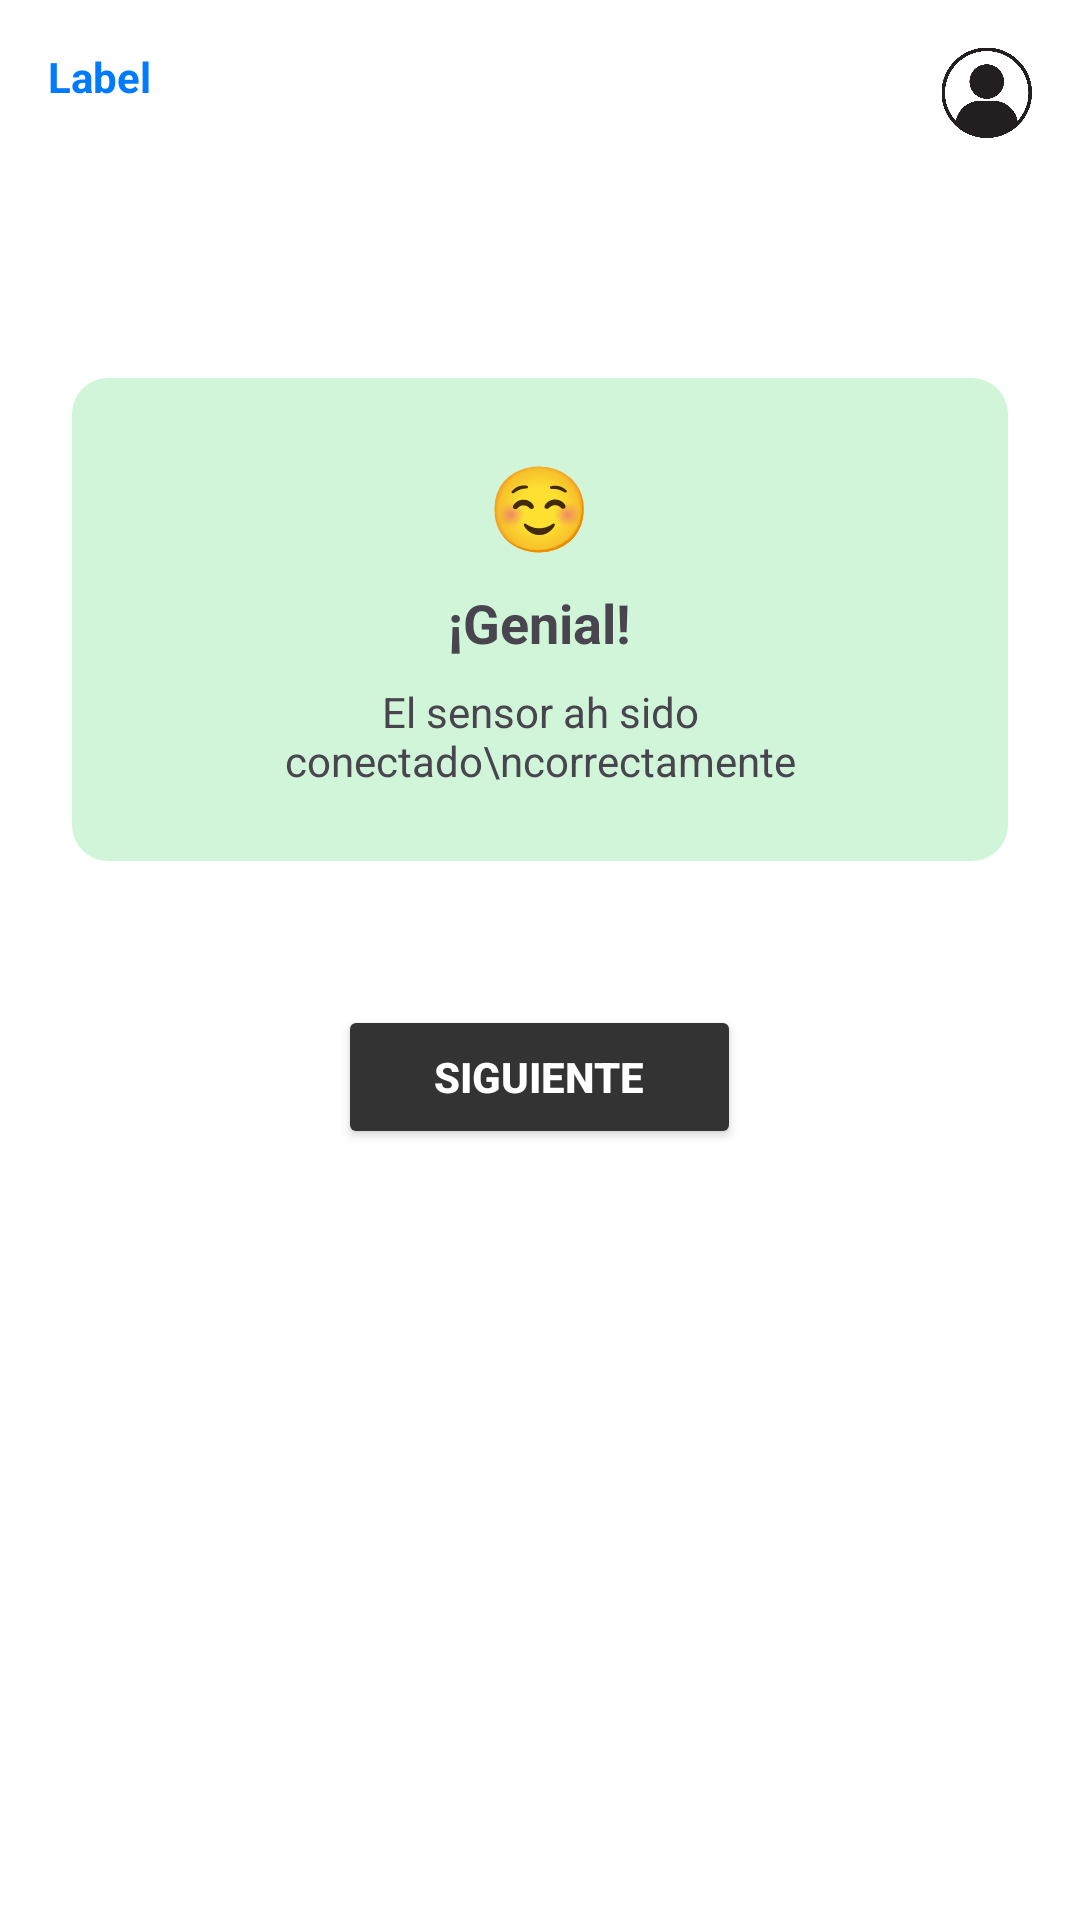

Point at icon controls on the screen. Image size 1080w x 1920h, points as point (x, y).
usuario: point (987, 93)
